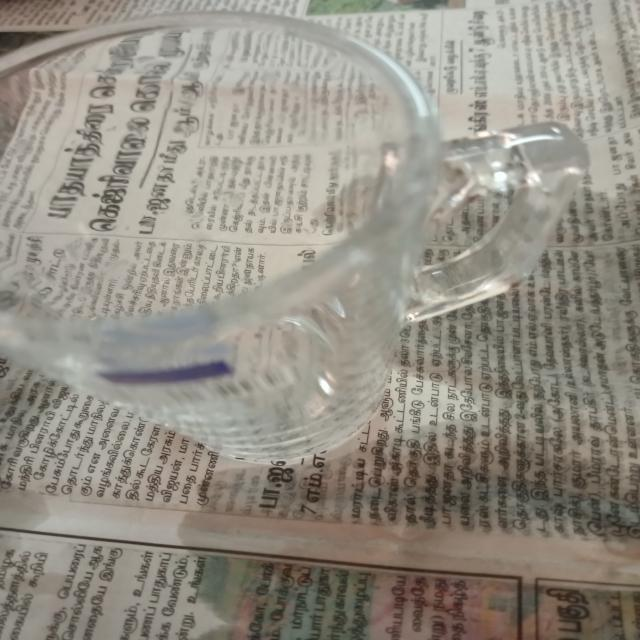glass-VX4N: (0, 9, 592, 462)
